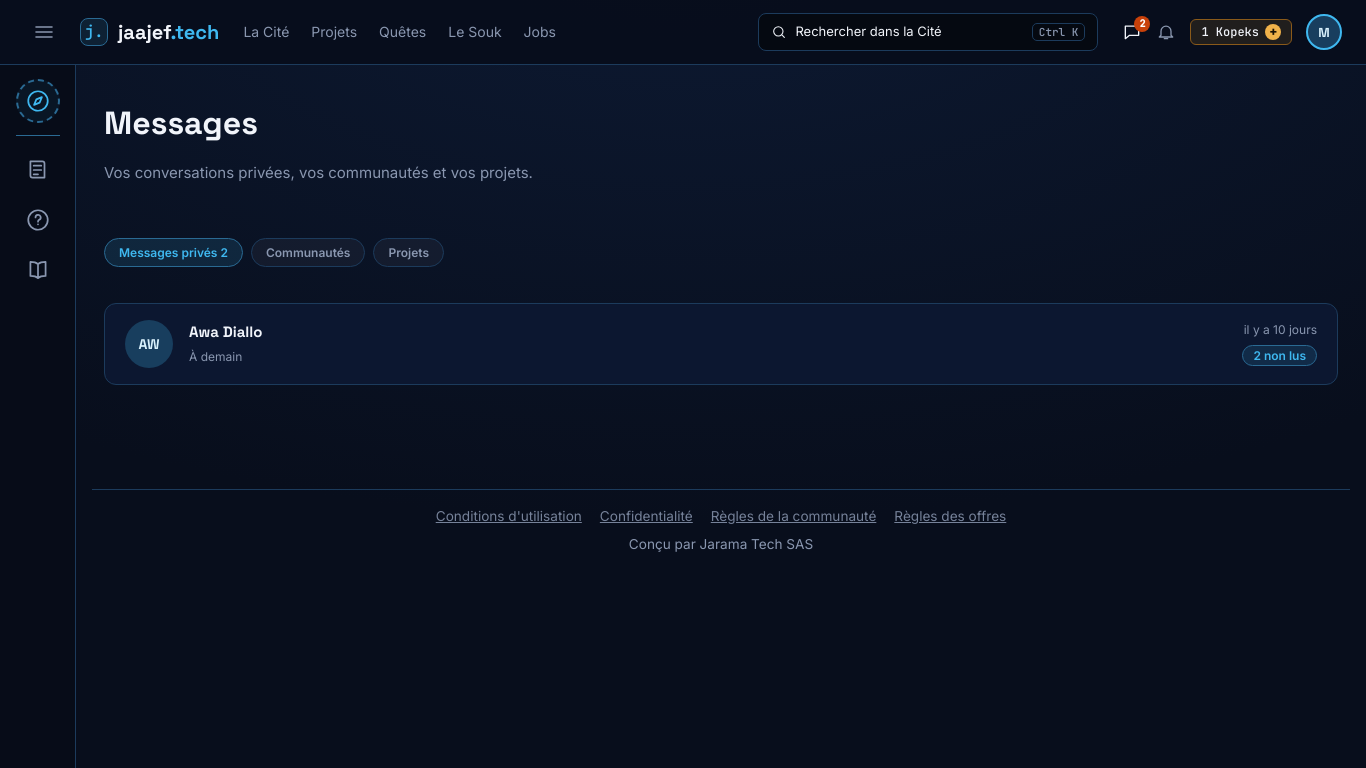
Test case: Inbox tabs › explains an empty communities tab and still shows private messages when rooms fail
Expected: the link "Awa Diallo" is shown, [189, 322, 262, 341]
Click the tab "Communautés". click: (308, 252)
box: [251, 238, 366, 266]
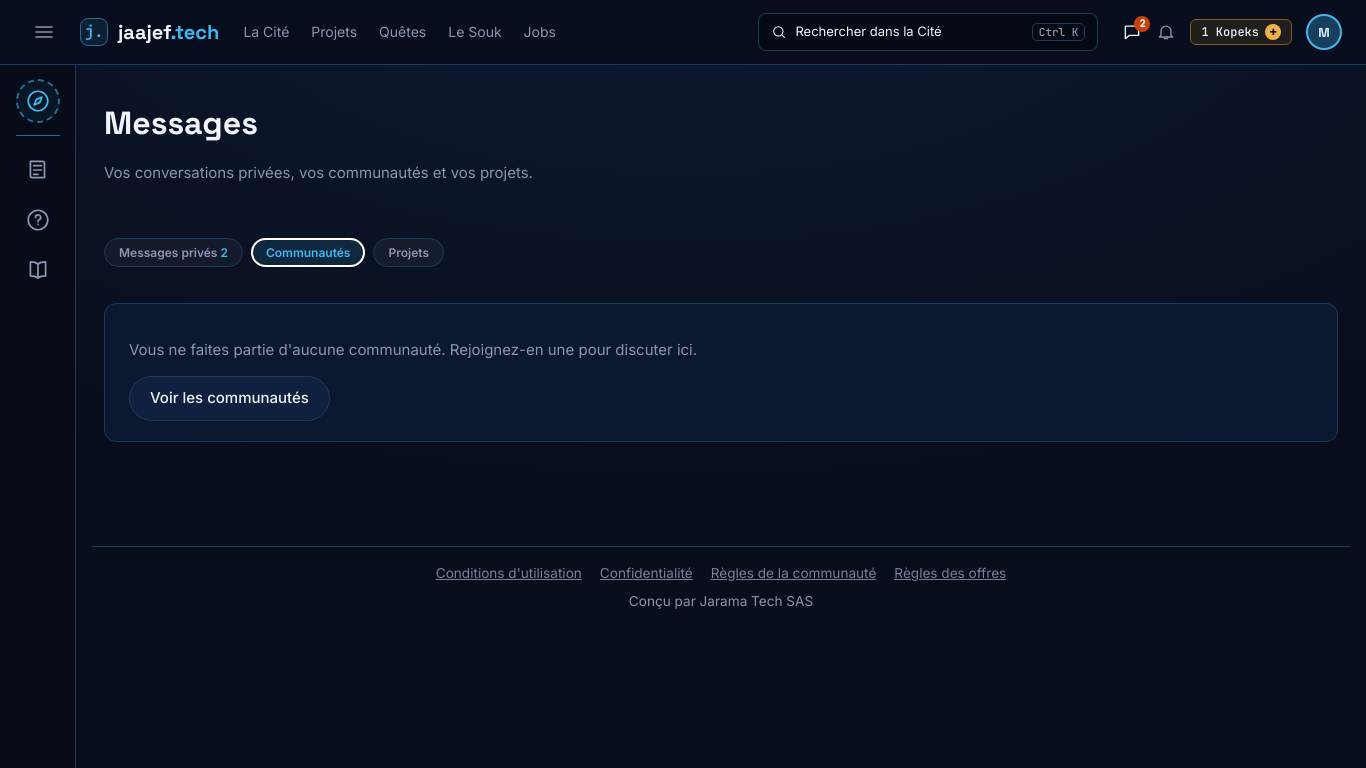
Result: the text "Vous ne faites partie d'aucune communauté" is shown at [129, 340, 697, 358]
